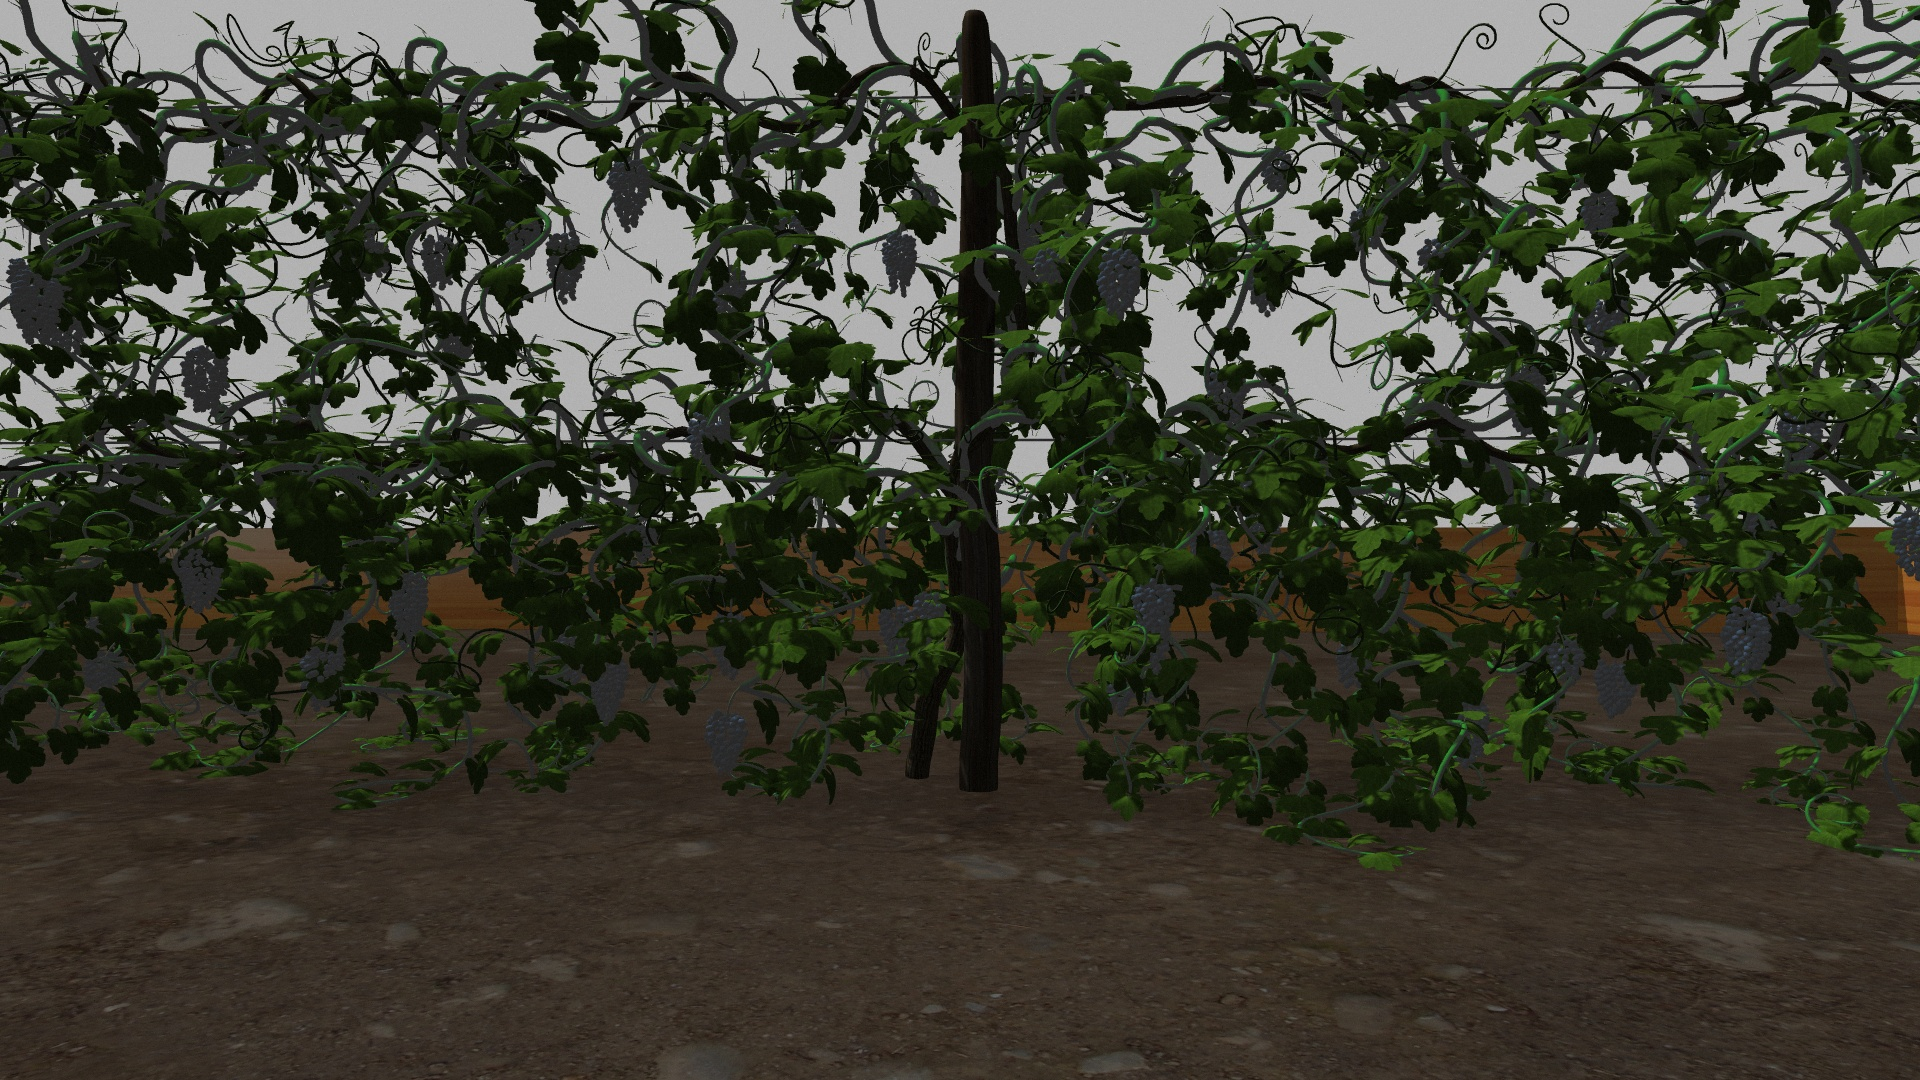grape: (7, 255, 65, 343), (1131, 579, 1176, 674), (1720, 605, 1774, 680), (604, 160, 654, 232), (386, 568, 430, 651), (179, 345, 232, 413), (1096, 247, 1143, 318), (171, 549, 222, 613), (1776, 406, 1828, 465), (546, 229, 585, 305), (704, 711, 748, 778), (1594, 658, 1636, 720), (589, 661, 629, 727), (686, 410, 731, 468), (881, 231, 919, 297), (79, 646, 125, 696), (419, 233, 460, 287), (1887, 512, 1917, 582), (878, 604, 914, 657), (298, 646, 347, 684), (504, 219, 545, 261), (1335, 642, 1371, 688), (1545, 640, 1586, 680), (1581, 190, 1619, 233), (1031, 248, 1067, 286), (1261, 152, 1294, 193), (914, 591, 945, 626)
